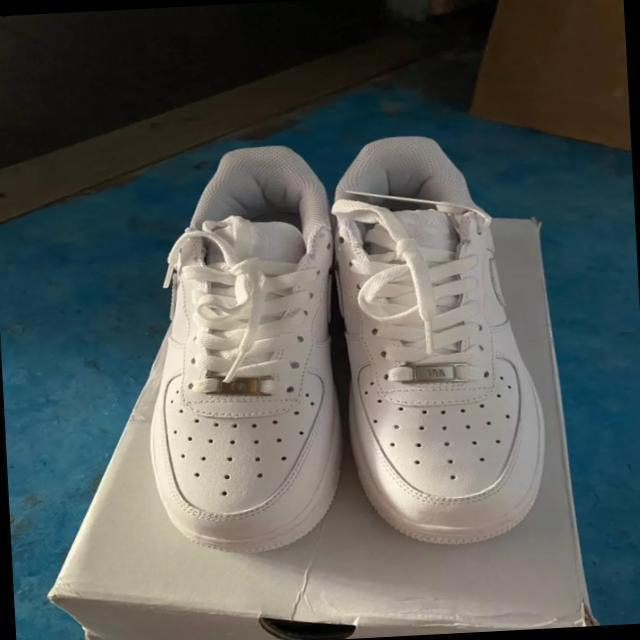nike original air force: (320, 116, 554, 560), (128, 137, 356, 564)
